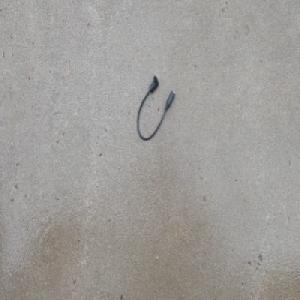Wire: (135, 73, 175, 141)
